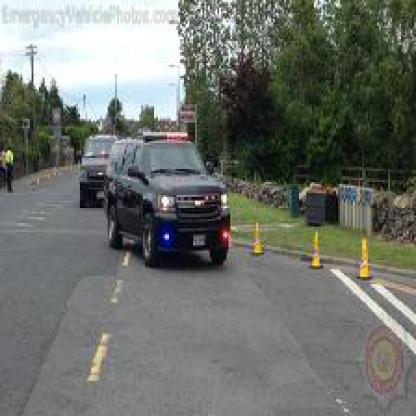emergency: (104, 124, 235, 270)
not_emergency: (74, 131, 127, 208)
